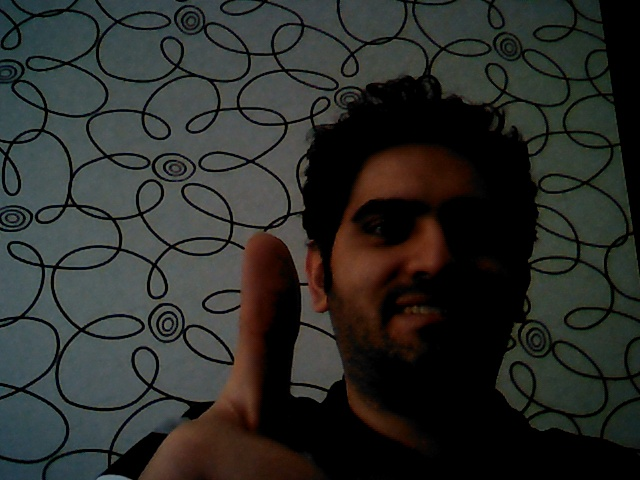ThumbUp: (127, 233, 333, 478)
